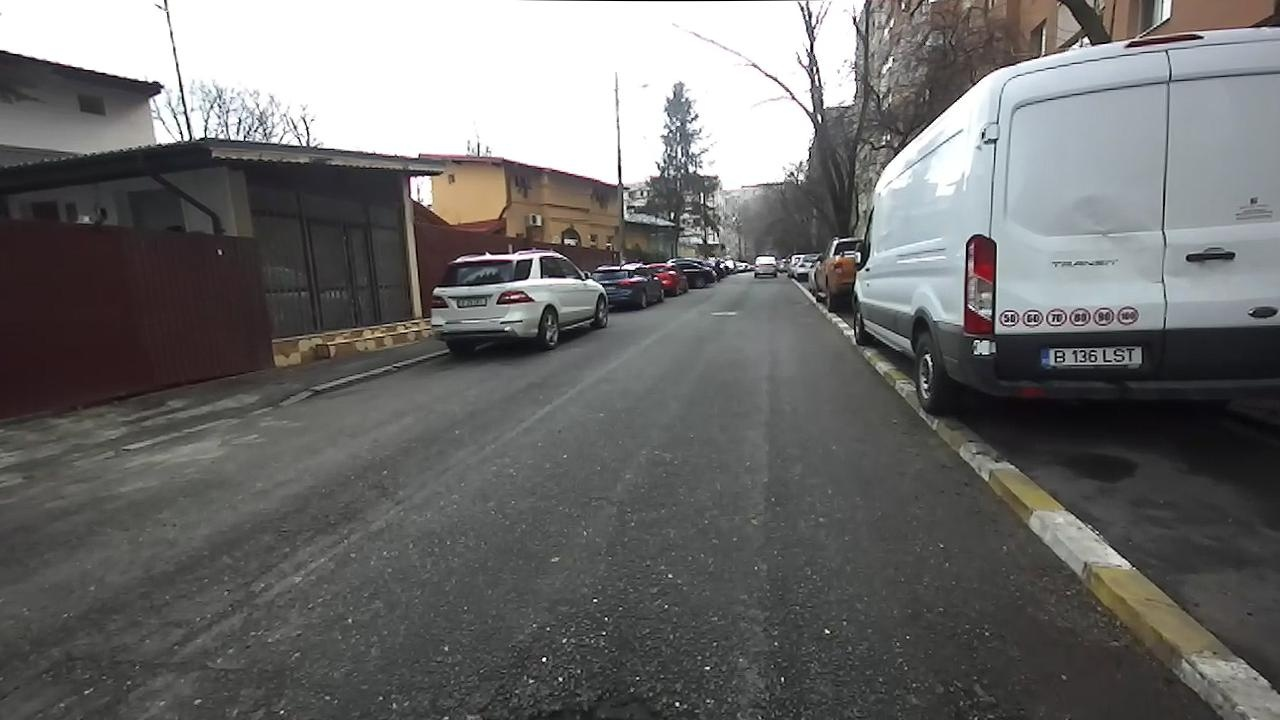pothole: (482, 700, 710, 719)
